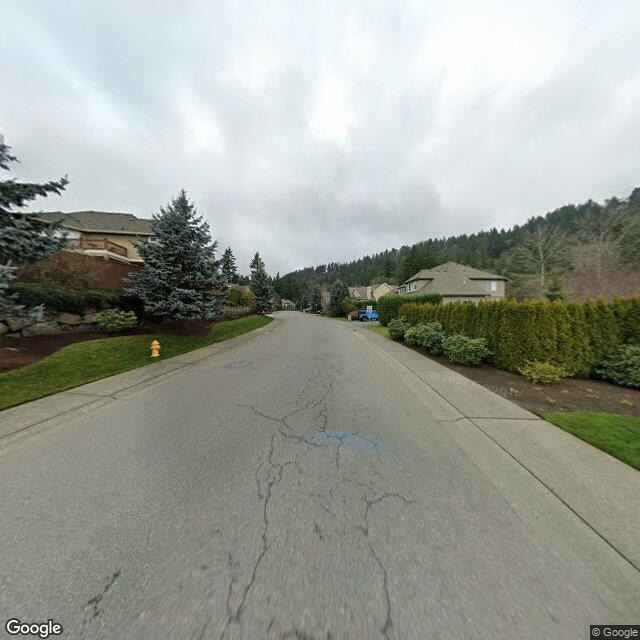hydrant: (147, 337, 162, 363)
